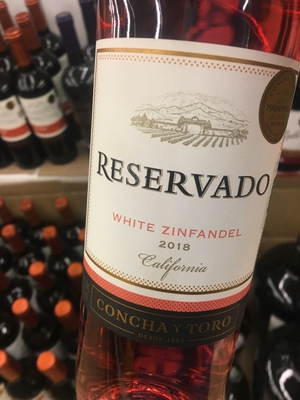reservado white zinfandel: (76, 3, 295, 400)
